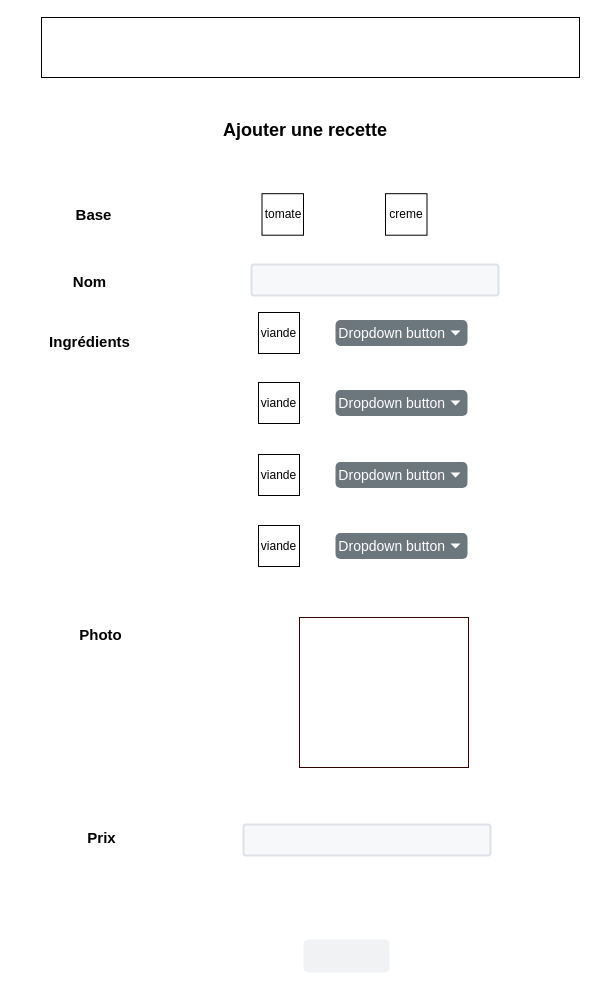
This 597x990 diagram has some shape labels left out. Each missing label, with the box of its shape:
GESTION DES RECETTES: (40, 16, 580, 78)
Valider: (303, 939, 389, 972)
